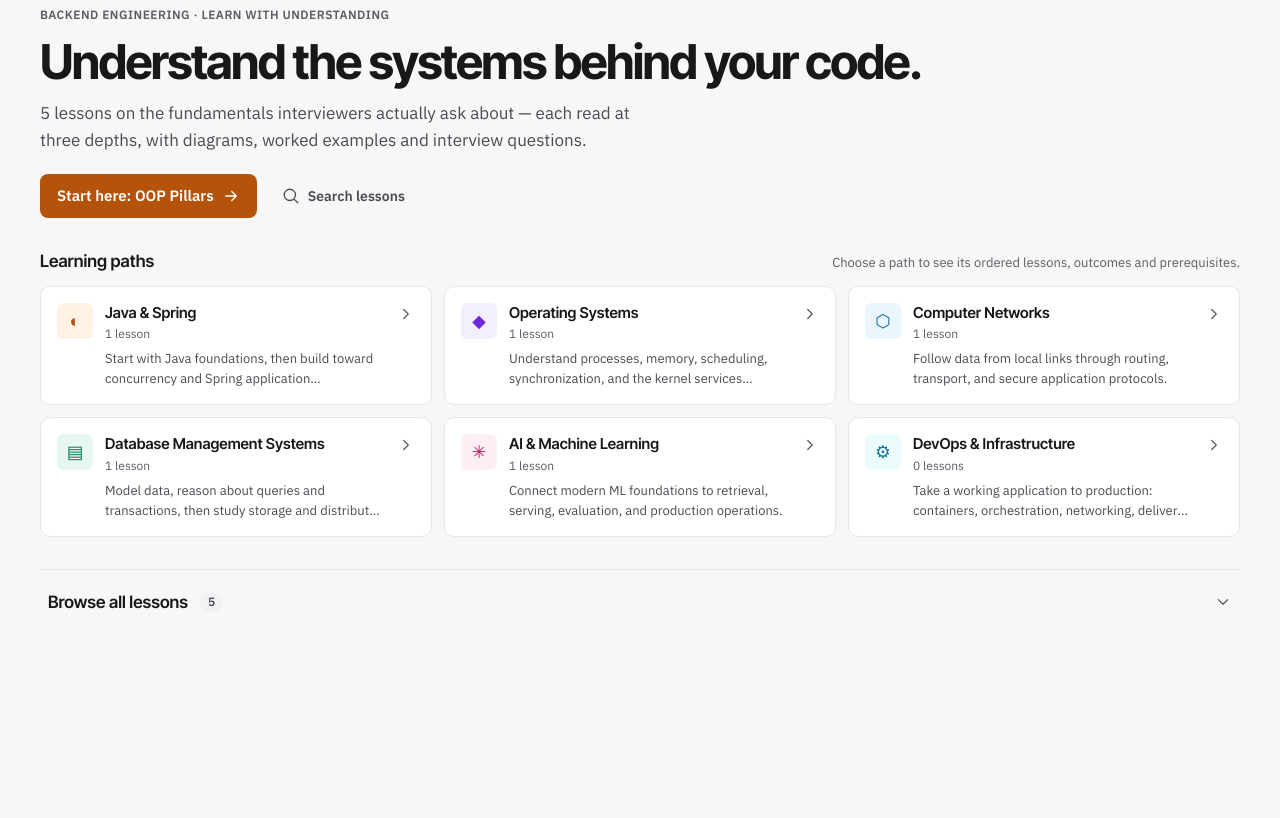
Test case: HomePage › keeps the bookmarked filter reachable after the last bookmark is removed
Click the button "Browse all lessons 5". click: (118, 602)
box: left=40, top=578, right=1240, bottom=626
(page scrolled)
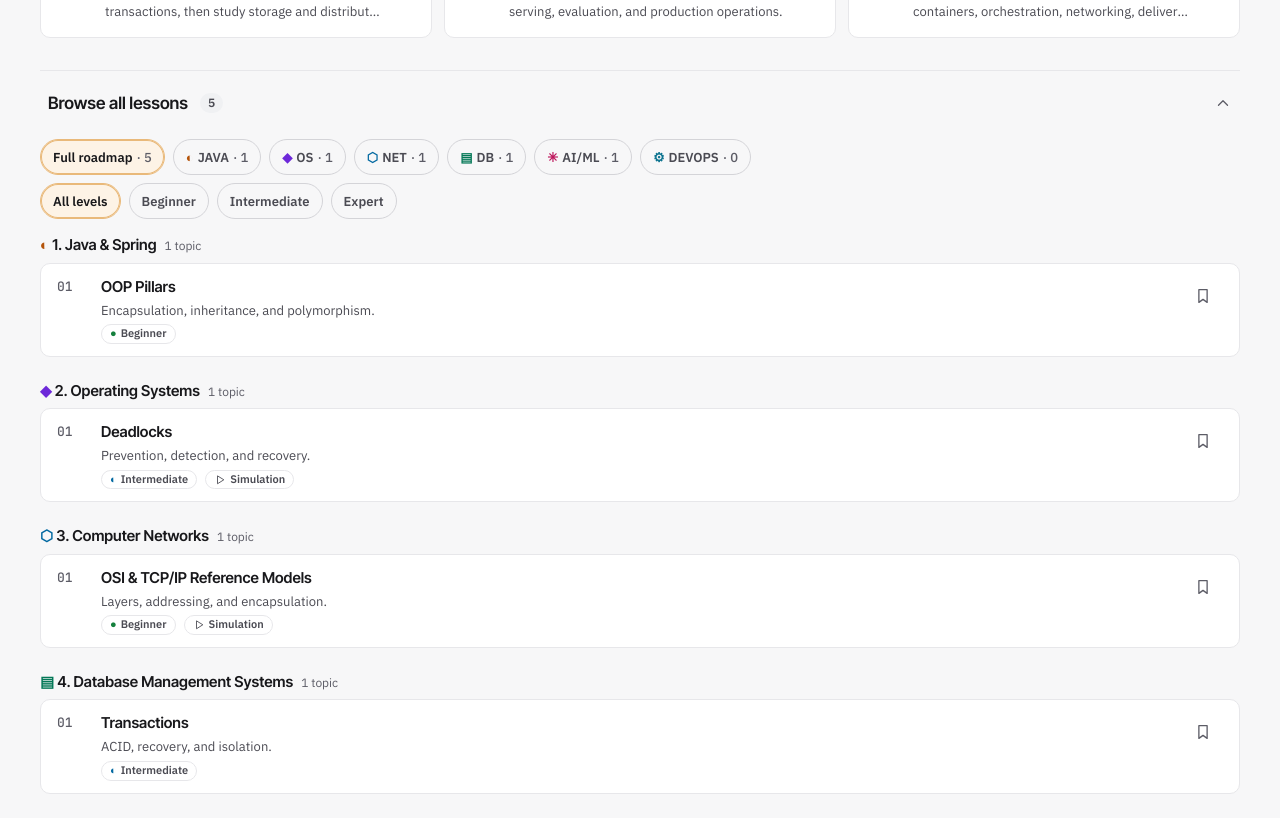
Expected: the link "OOP Pillars" is shown, left=101, top=277, right=176, bottom=296
Click the button named "Bookmark Deadlocks". click: (1203, 441)
box: left=1183, top=421, right=1223, bottom=461
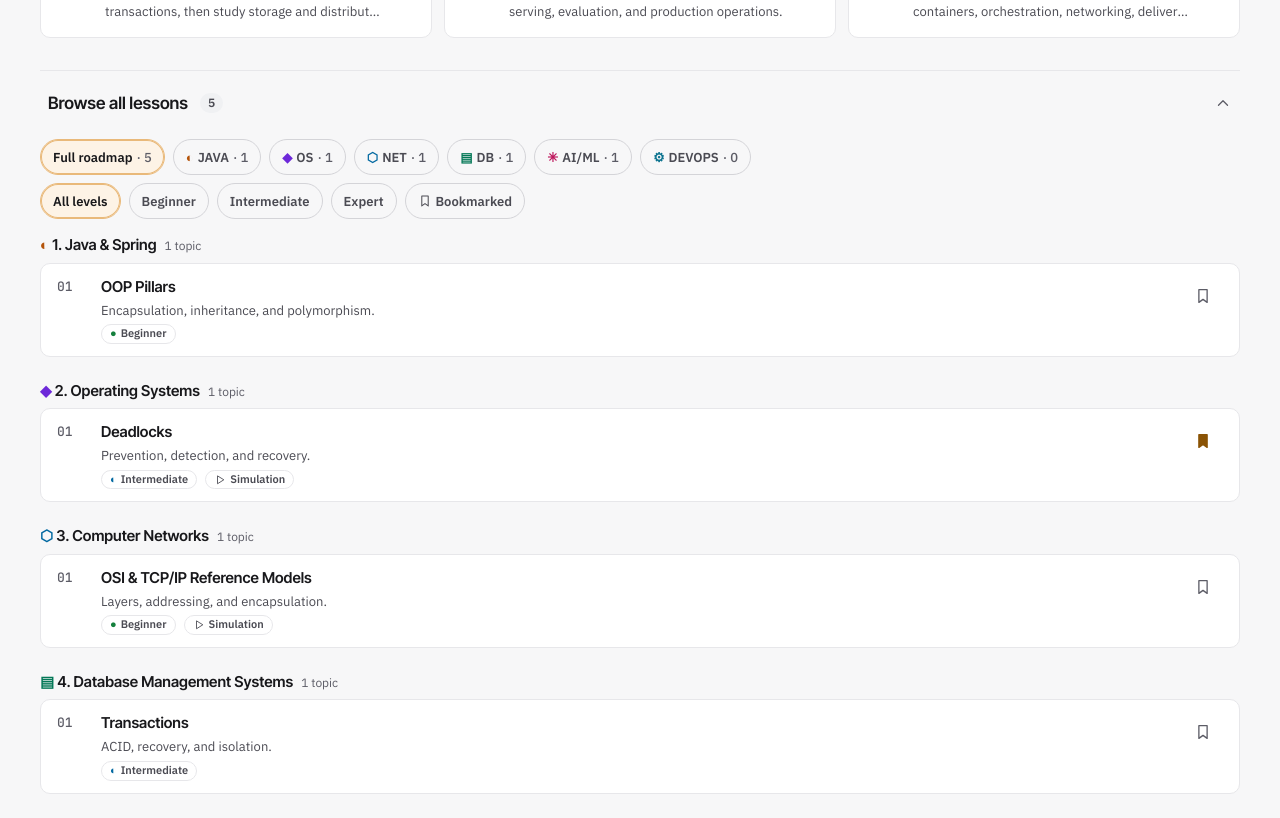
Click the button "Bookmarked". click: (465, 201)
box: left=404, top=183, right=525, bottom=219
(page scrolled)
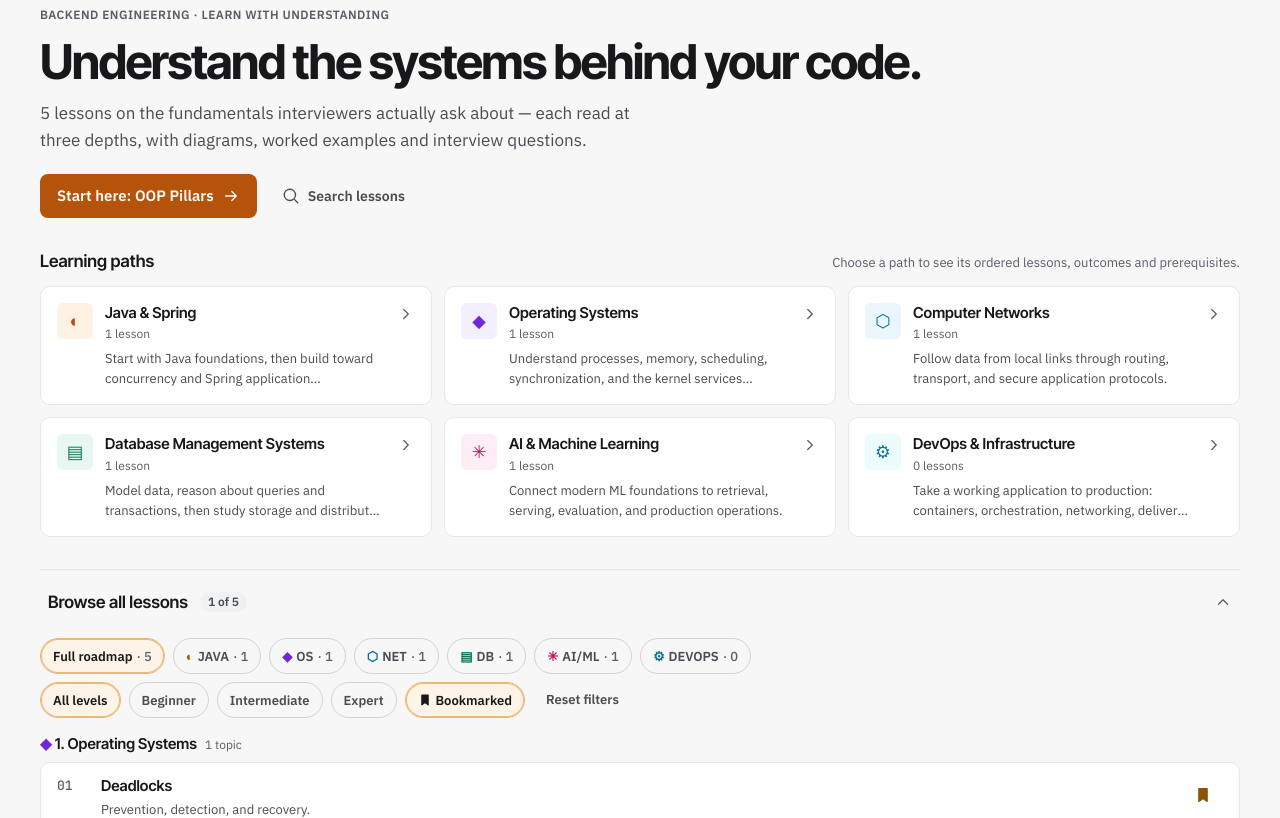
Click the button named "Remove Deadlocks from bookmarks". click: (1203, 795)
box: left=1183, top=775, right=1223, bottom=815
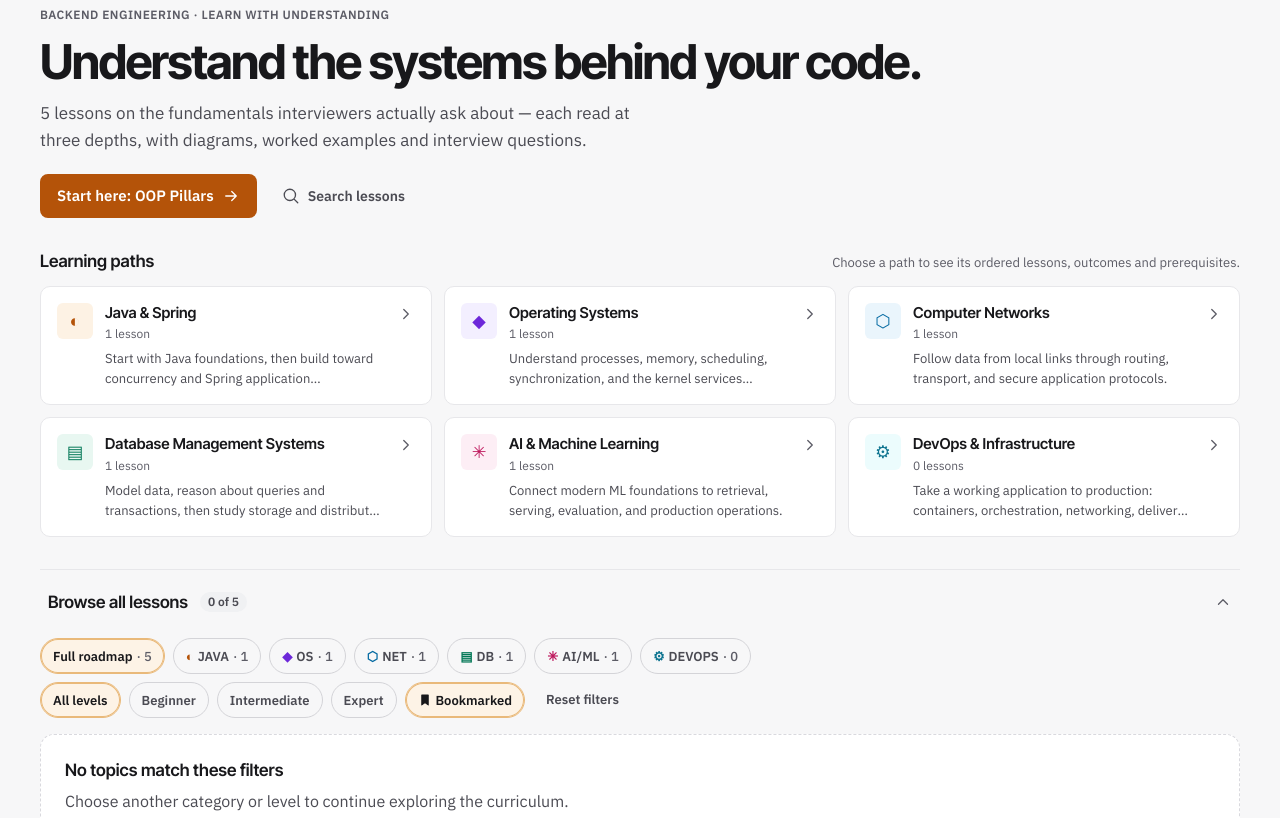
Expected: the button "Bookmarked" is pressed
Click the button "Bookmarked". click: (465, 700)
box: left=404, top=682, right=525, bottom=718
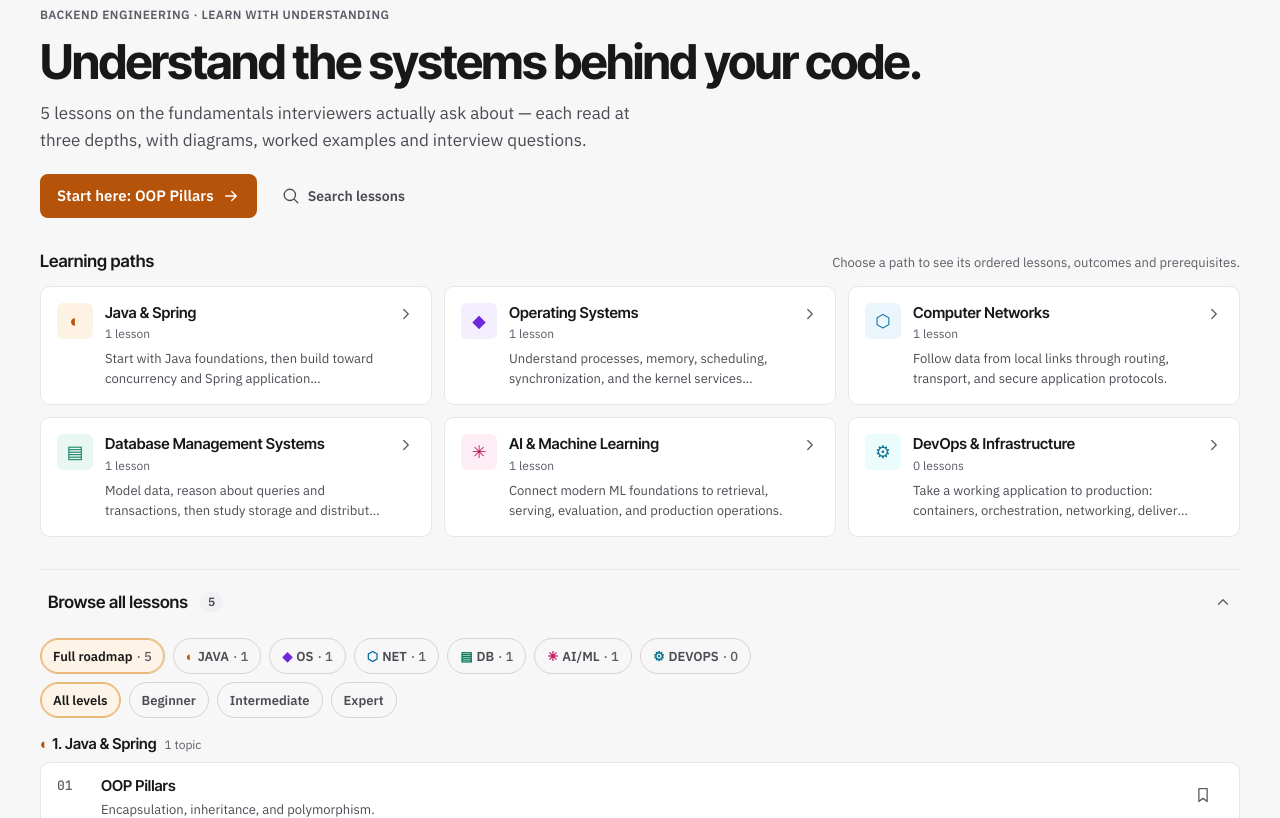
Expected: the link "OOP Pillars" is shown, left=101, top=776, right=176, bottom=795
